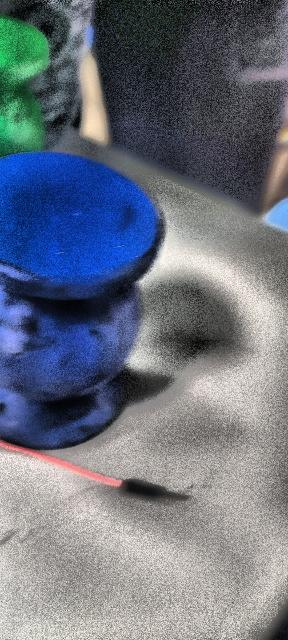blue: (1, 150, 163, 450)
